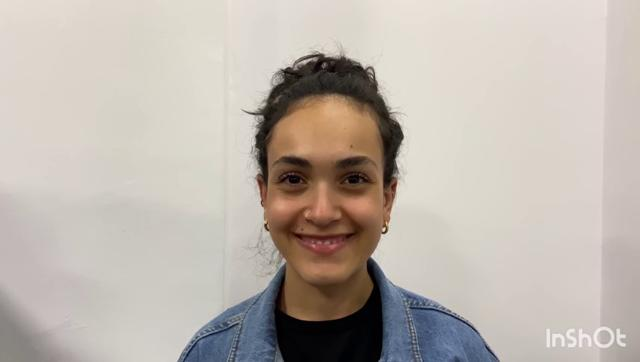senang: (265, 97, 385, 286)
